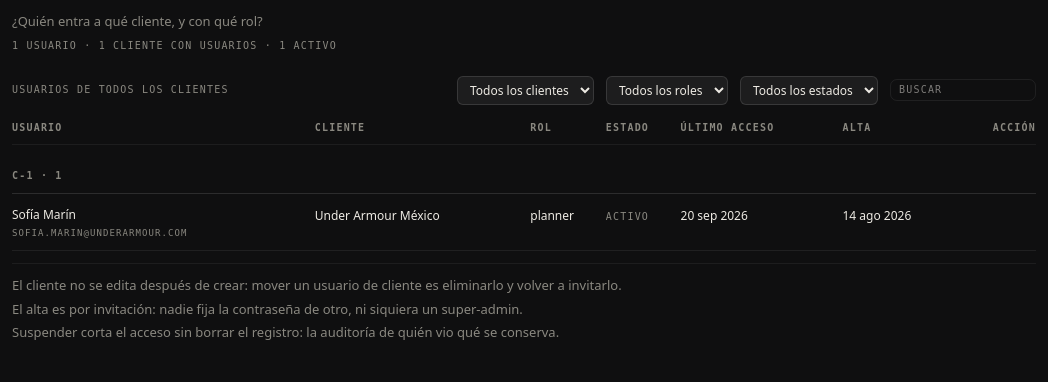
Test: los dos vacíos, que no son el mismo › con usuarios y búsqueda sin resultados es de FILTRO · y se puede deshacer
Type "zzz" into the search field labelled "BUSCAR" at (963, 90), box [890,79,1036,101]
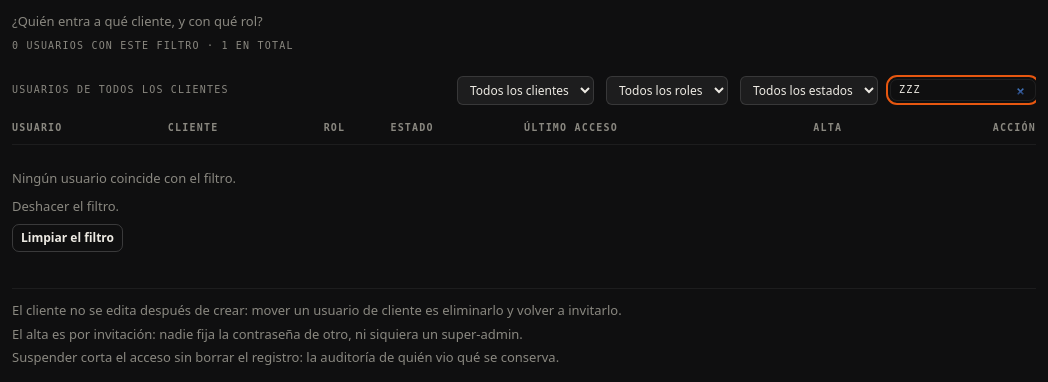
Check: the text "0 usuarios con este filtro · 1 en total" is shown, box [12,40,294,50]
Note: **Que el botón DISPARE**, no que exista: un botón muerto se ve igual.
Click the button "Limpiar el filtro" at (68, 238), box [12,224,123,252]
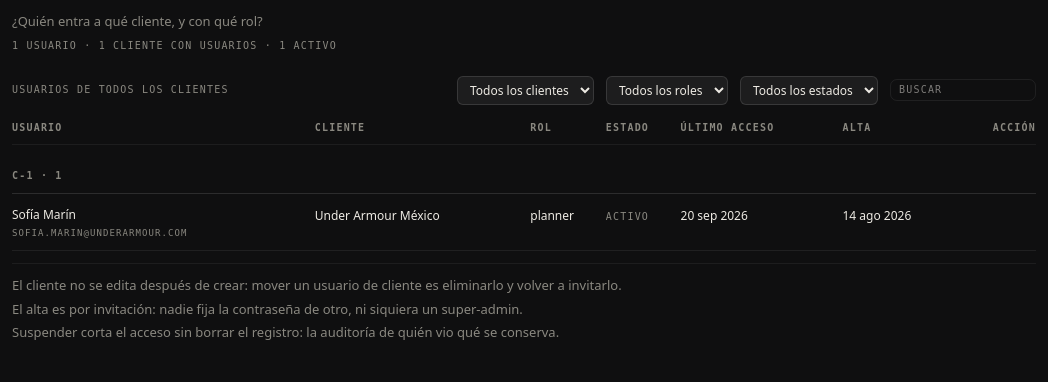
Check: the text "Sofía Marín" is shown, box [12,206,76,222]
